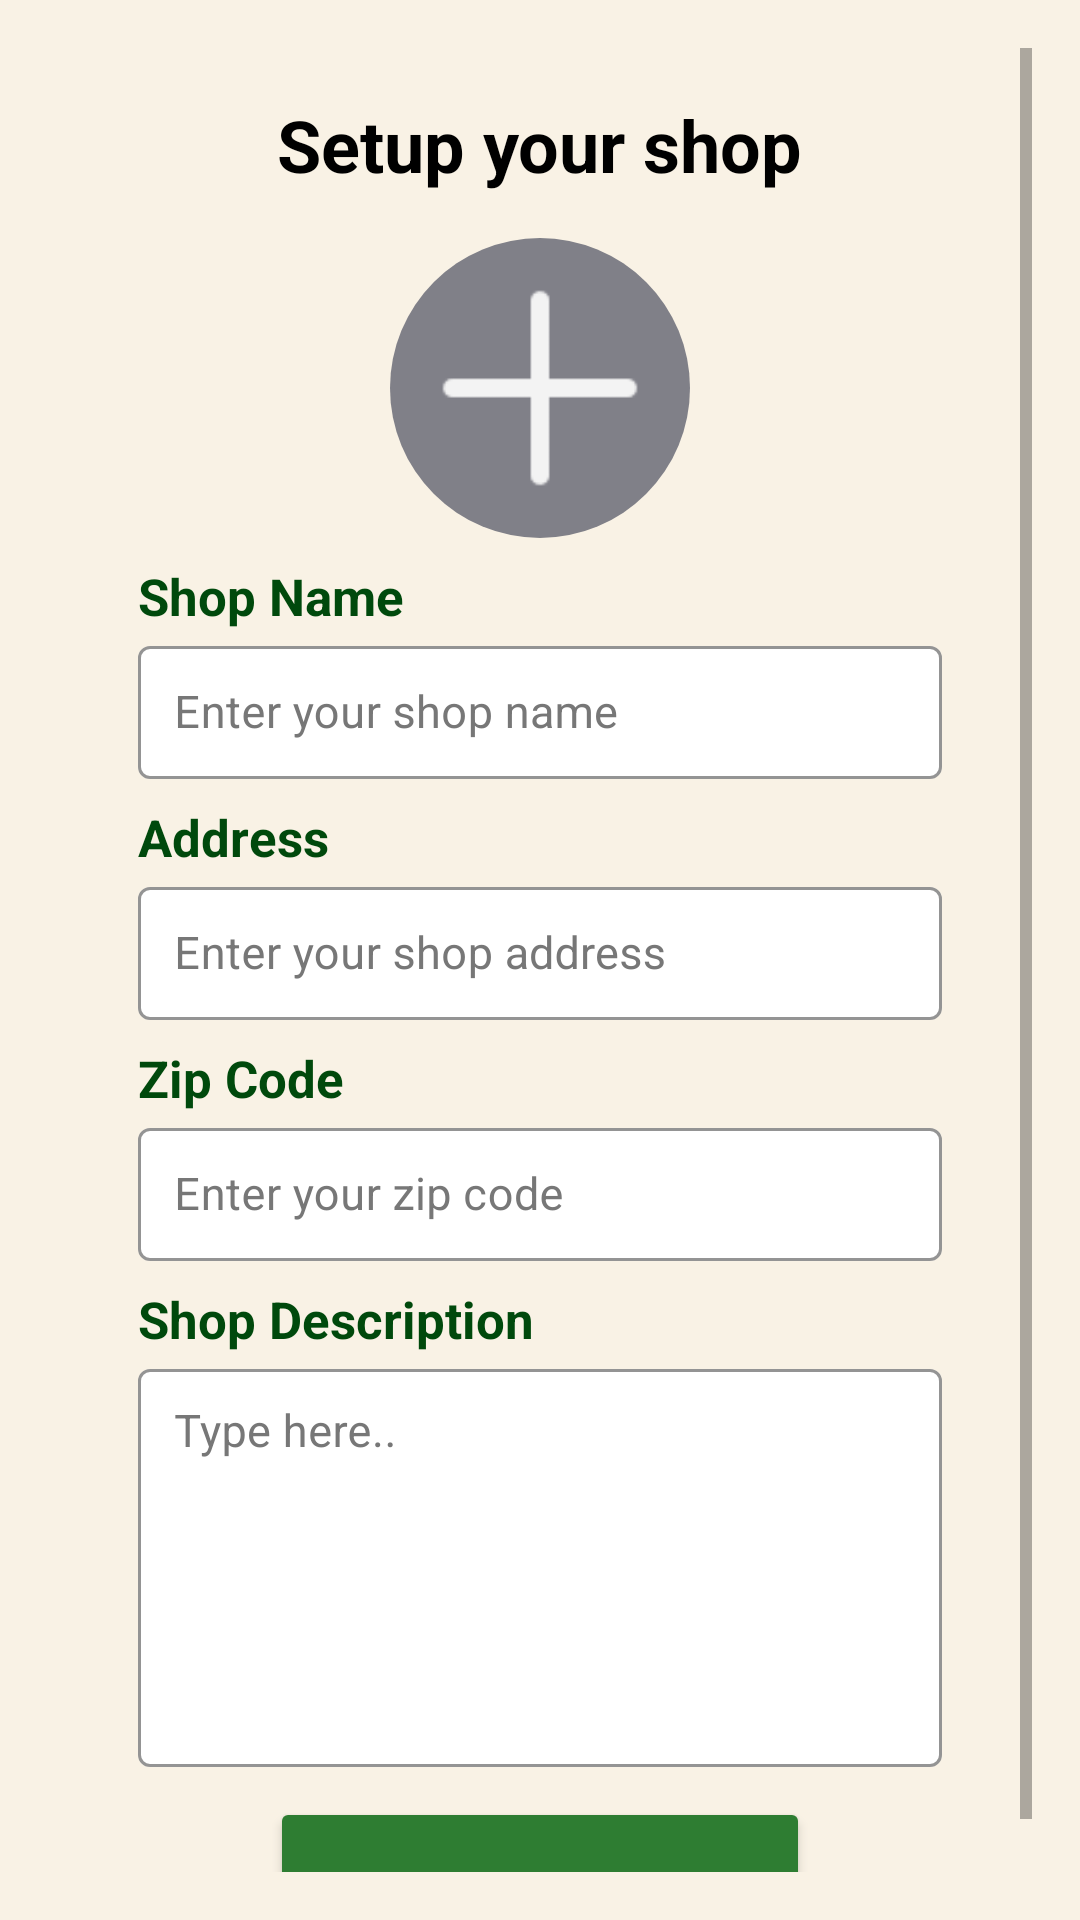

Locate icon controls on the screen. Image size 1080*1920, boxes as [x1,y1,x2,y2].
Upload Shop Image: [390,238,690,538]
